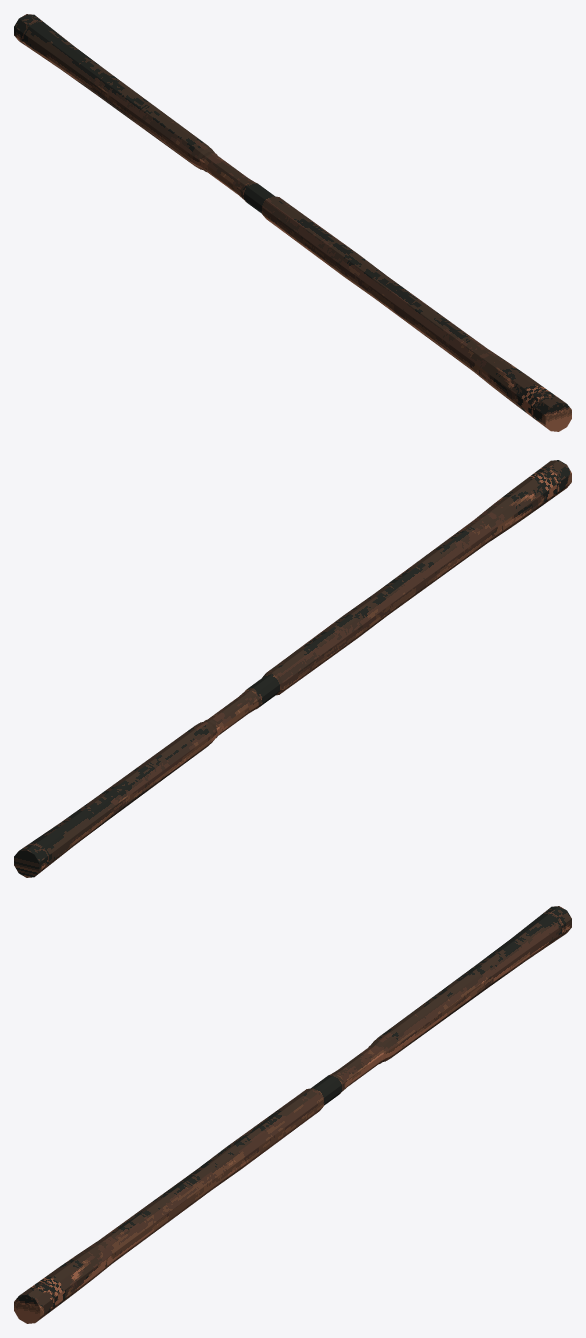
The model's file is staff.glb.
3 renders of one model, top to bottom at view 1: azimuth 30°, elevation 25°; view 2: azimuth 150°, elevation 25°; view 3: azimuth 330°, elevation 25°, orthographic.
Visible parts, largest first — view 1: haft; view 2: haft; view 3: haft.
Boxes of the visible parts, x1,y1,x2,y2 form: haft: (14,14,571,431); haft: (14,460,571,877); haft: (14,906,571,1323).
Bounding box in the file's own units: 0.051 × 0.0537 × 1.79.
1 material, 1 textured.
